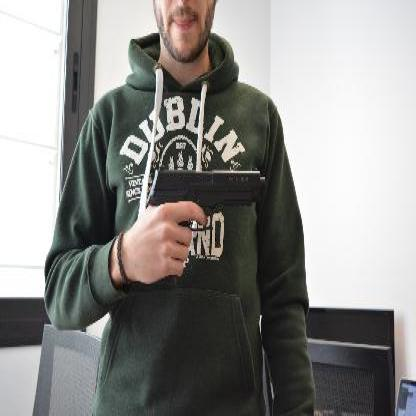pistol: (145, 164, 266, 288)
